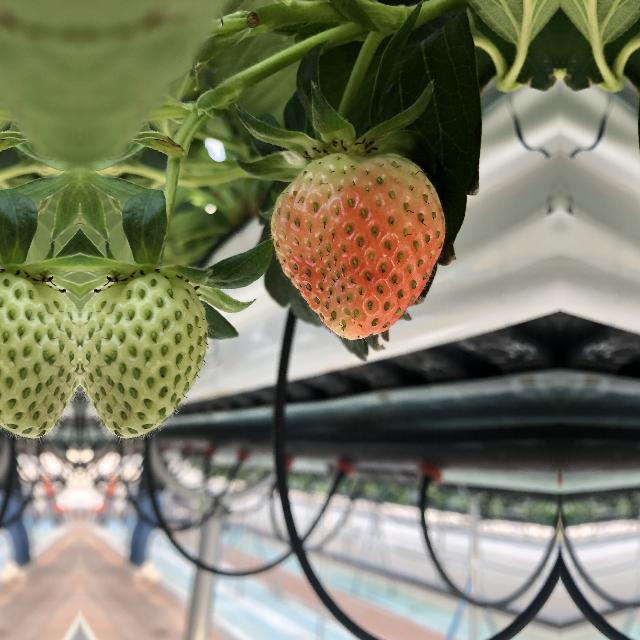Health_25: (80, 250, 210, 444), (0, 250, 79, 444)
Health_75: (266, 142, 450, 340)
